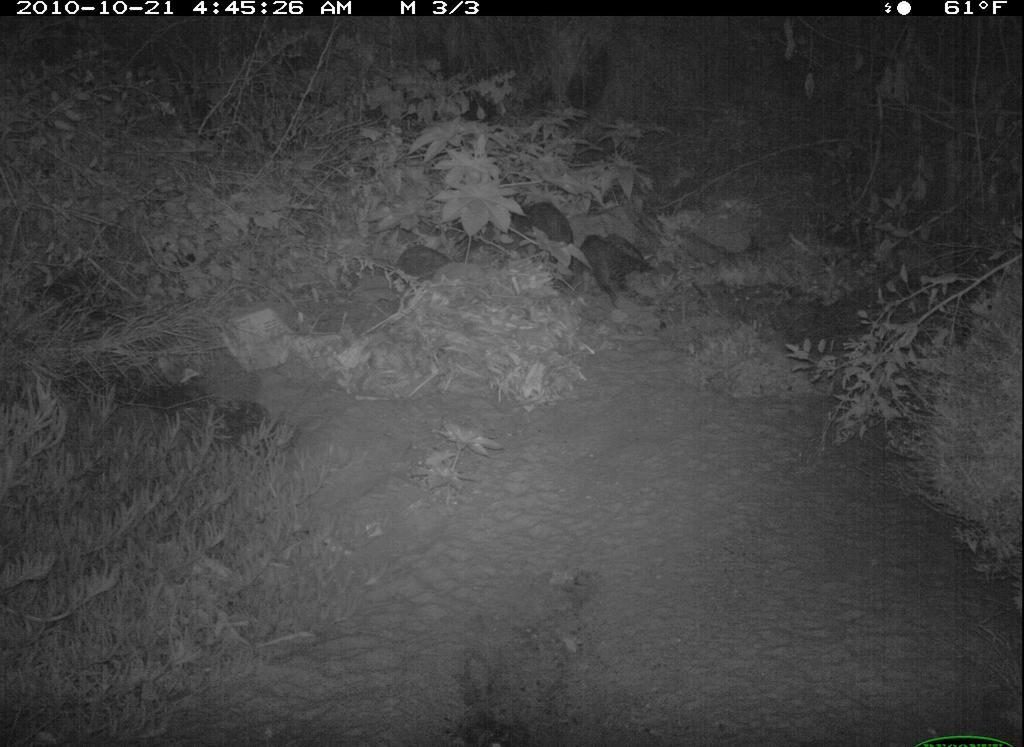raccoon: (569, 228, 671, 310), (510, 195, 578, 272)
